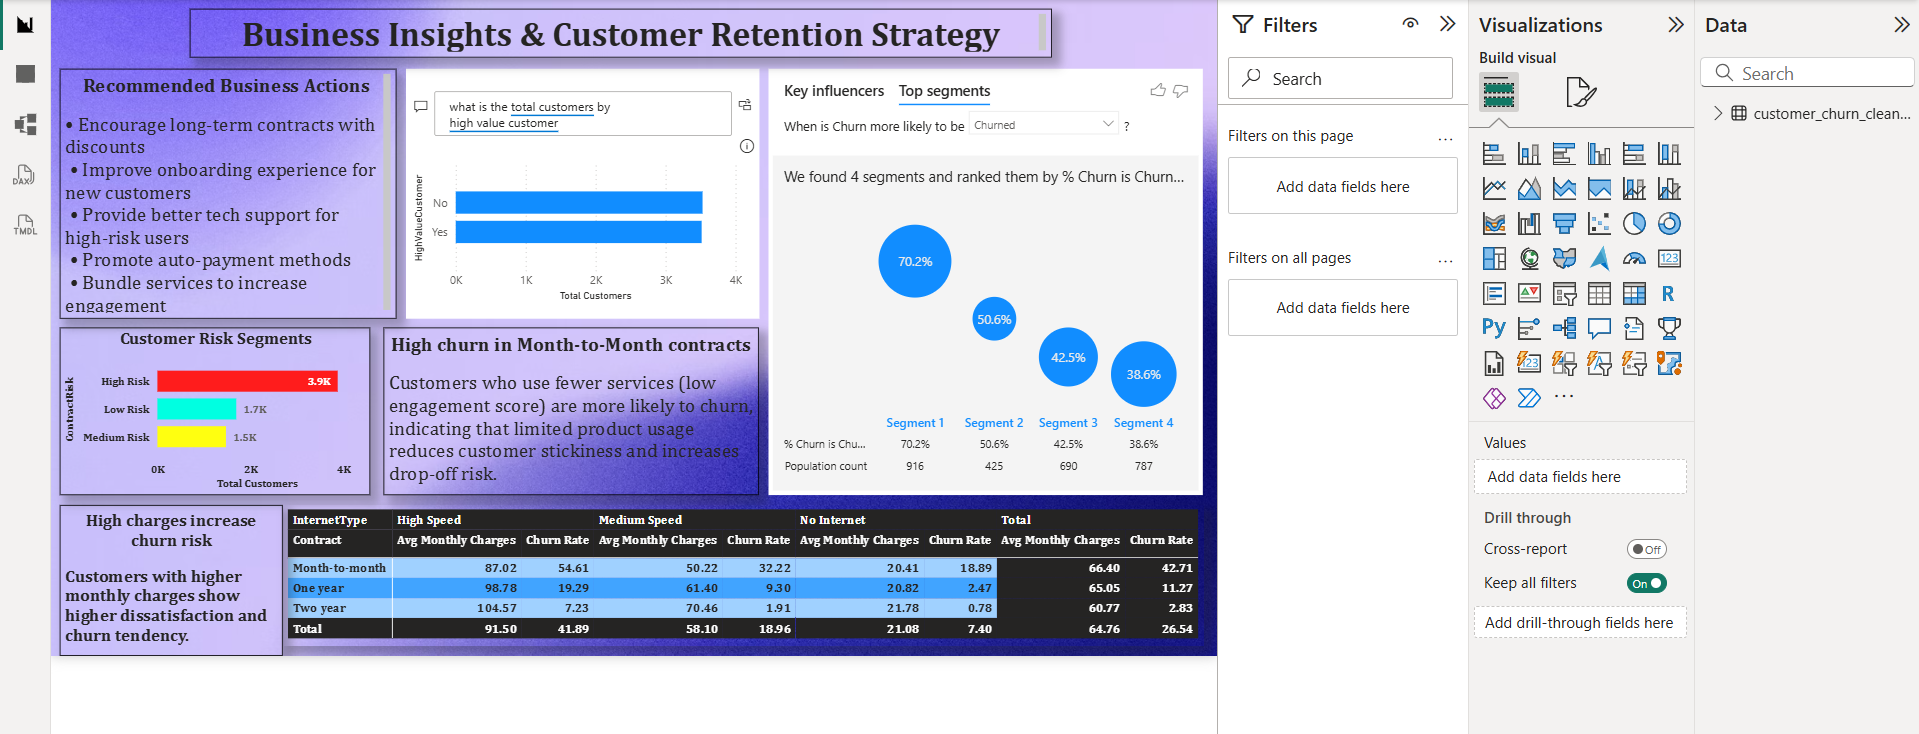

This screenshot's page, from the dashboard's own definition file:
{"tool":"powerbi","page":{"name":"Page 5","canvas":[1280,720],"ordinal":4},"visuals":[{"type":"pivotTable","fields":{"Rows":["customer_churn_cleaned.Contract"],"Columns":["customer_churn_cleaned.InternetType"],"Values":["customer_churn_cleaned.Avg Monthly Charges","customer_churn_cleaned.Churn Rate"]},"box":[254.6,554.6,1010.1,154.2],"z":0},{"type":"barChart","title":"Customer Risk Segments ","fields":{"Category":["customer_churn_cleaned.ContractRisk"],"Y":["customer_churn_cleaned.Total Customers"]},"box":[9.9,359.3,340.9,183.9],"z":1},{"type":"textbox","box":[9.9,75,369.2,274.4],"z":2},{"type":"qnaVisual","box":[389,75,387.6,274.4],"z":3},{"type":"textbox","box":[365,359.3,411.7,183.9],"z":4},{"type":"textbox","box":[9.9,554.6,244.7,165.5],"z":5},{"type":"keyDriversVisual","fields":{"Target":["customer_churn_cleaned.Churn"],"ExplainBy":["customer_churn_cleaned.Contract","customer_churn_cleaned.TenureGroup","customer_churn_cleaned.InternetType","Avg(customer_churn_cleaned.MonthlyCharges)","customer_churn_cleaned.EngagementLevel"]},"box":[788,75,476.7,468.3],"z":6},{"type":"textbox","box":[152.8,9.9,946.4,53.8],"z":7}]}

Visuals, with their boxes on the page's 1280x720 design canvas (x1, y1, x2, y2). These are canvas units, not pixel positions in the 1919x734 screenshot, which may show the page scaled, cropped or inside an application window:
pivotTable - customer_churn_cleaned.Contract x customer_churn_cleaned.InternetType: [255, 555, 1265, 709]
"Customer Risk Segments " barChart: [10, 359, 351, 543]
textbox: [10, 75, 379, 349]
qnaVisual: [389, 75, 777, 349]
textbox: [365, 359, 777, 543]
textbox: [10, 555, 255, 720]
keyDriversVisual - customer_churn_cleaned.Churn x customer_churn_cleaned.Contract: [788, 75, 1265, 543]
textbox: [153, 10, 1099, 64]
